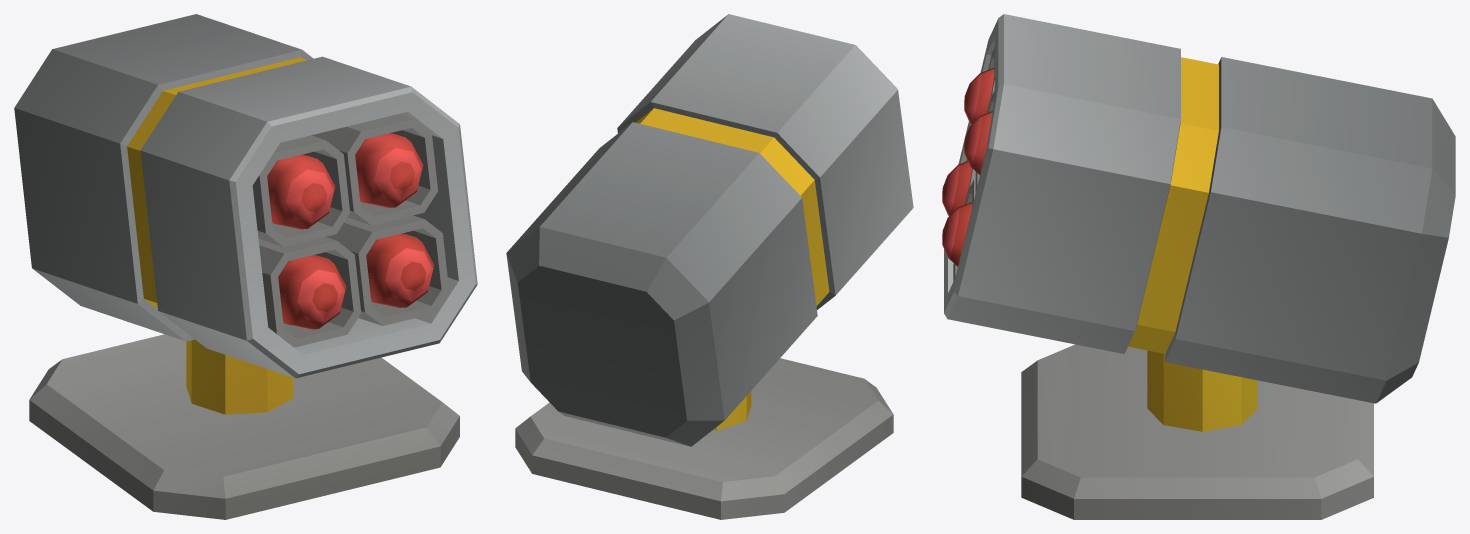
File: Missile_Battery.fbx
3 renders of one model, left to right at view 1: azimuth 30°, elevation 25°; view 2: azimuth 150°, elevation 25°; view 3: azimuth 270°, elevation 25°, orthographic. The views are drawn at different scales.
Visible parts, largest first — view 1: Missile_battery; view 2: Missile_battery; view 3: Missile_battery.
Part boxes in pixels (x1,y1,x2,y2): Missile_battery: (14, 14, 477, 519); Missile_battery: (506, 14, 913, 519); Missile_battery: (942, 14, 1455, 519).
Size of the model in its own units: 219 by 270 by 318.
